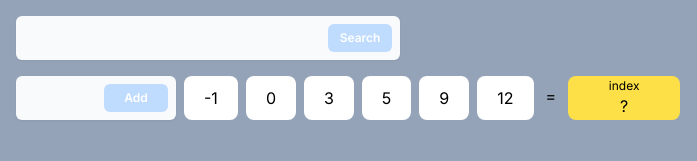
Test: HomePage › Search number › should display error message when no number is entered
This screenshot has width=697, height=161.
Click the button with test id "search-button" at (360, 38), box x1=328 y1=24 x2=392 y2=52
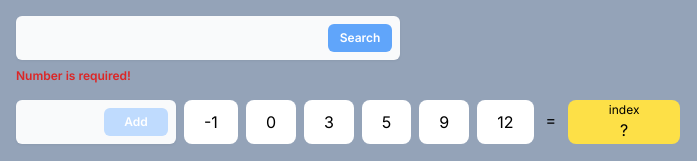
expect the text "Number is required!" is shown: met, box x1=16 y1=68 x2=131 y2=83
